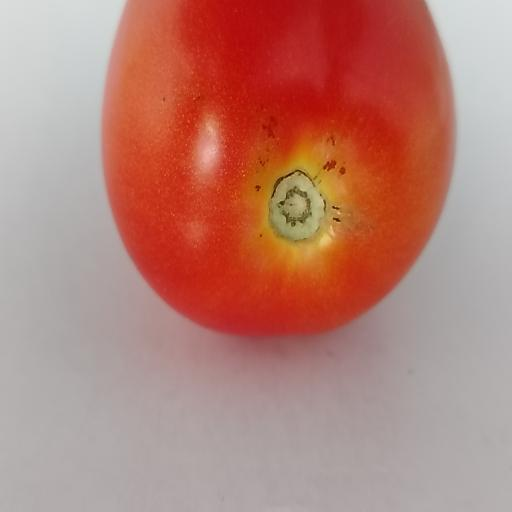ripe: (102, 0, 454, 335)
